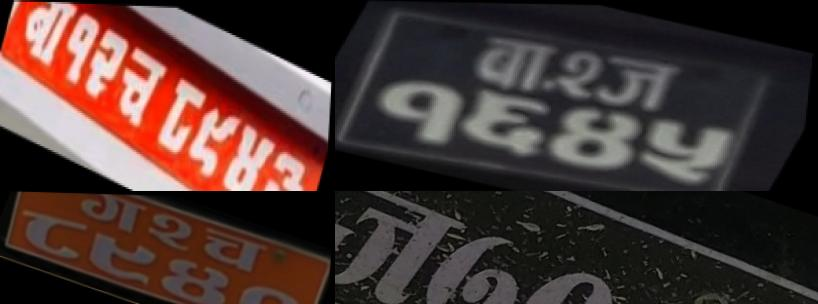0: (462, 31, 562, 94), (230, 275, 315, 304)
1: (546, 45, 614, 99), (58, 7, 100, 86)
2: (335, 191, 467, 304), (587, 50, 685, 114), (81, 22, 127, 106), (142, 207, 202, 255)
3: (358, 72, 487, 150), (257, 141, 310, 191)
4: (418, 215, 537, 304), (452, 86, 569, 159), (154, 250, 242, 304), (221, 116, 274, 191)
5: (539, 98, 658, 176)
6: (629, 112, 746, 188)
8: (5, 198, 95, 266), (156, 71, 206, 154)
9: (80, 226, 167, 288), (188, 94, 242, 180)
ba: (17, 1, 76, 68)
cha: (503, 251, 625, 304), (110, 39, 168, 130), (193, 223, 269, 276), (583, 280, 707, 304)
ga: (70, 193, 150, 235)
